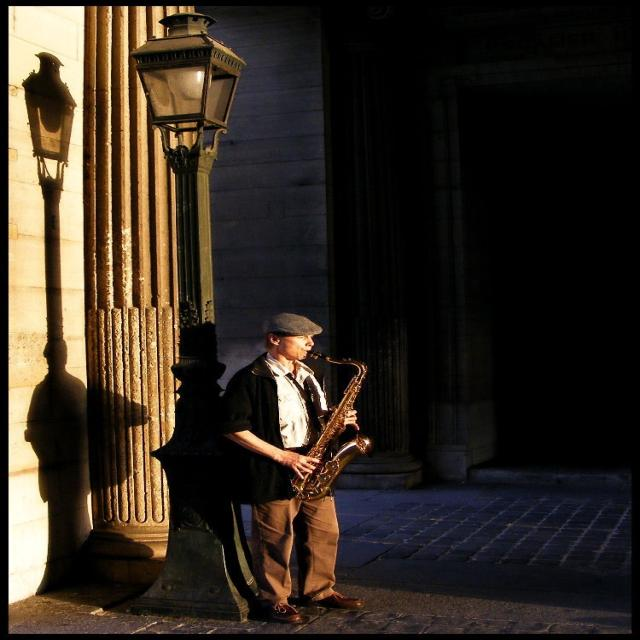saxophone: (288, 350, 376, 501)
